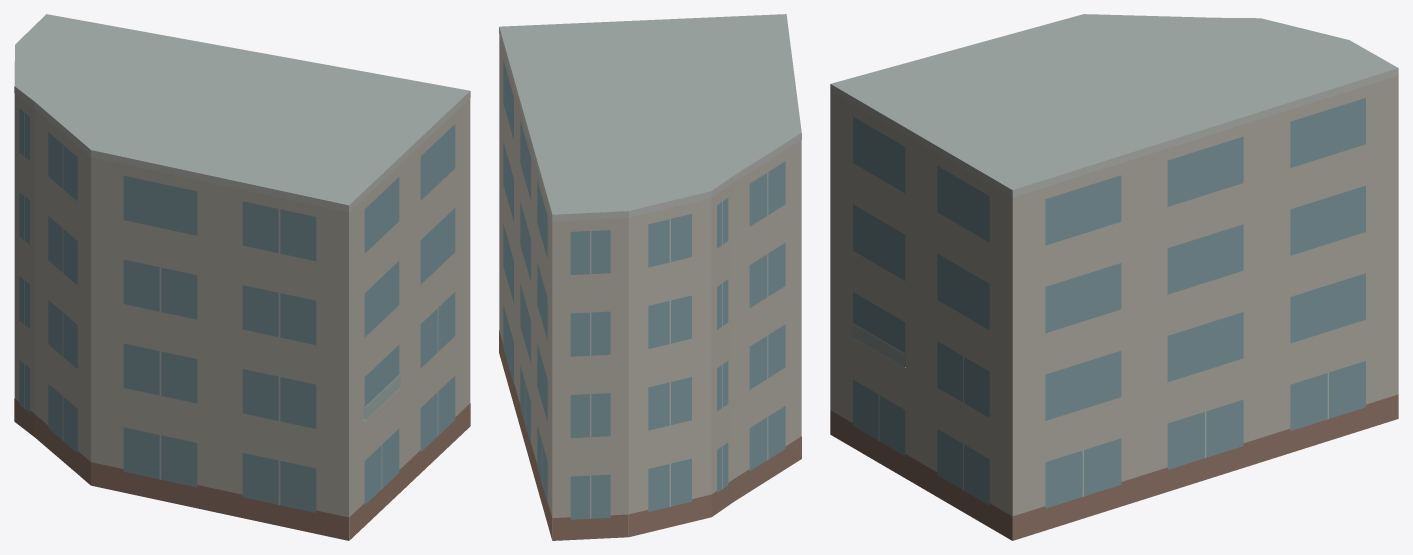
Rendered from survey-upis-32597838.glb.
The picture shows the model from 3 angles, left to right: view 1: azimuth 30°, elevation 25°; view 2: azimuth 150°, elevation 25°; view 3: azimuth 270°, elevation 25°; orthographic projection. The views are drawn at different scales.
Visible parts, largest first — view 1: survey-upis-32597838.tmp; view 2: survey-upis-32597838.tmp; view 3: survey-upis-32597838.tmp.
Boxes of the visible parts, x1,y1,x2,y2 form: survey-upis-32597838.tmp: (14, 14, 470, 540); survey-upis-32597838.tmp: (499, 14, 801, 540); survey-upis-32597838.tmp: (830, 14, 1398, 540).
Size of the model in its own units: 12.5 by 11.6 by 17.04.
